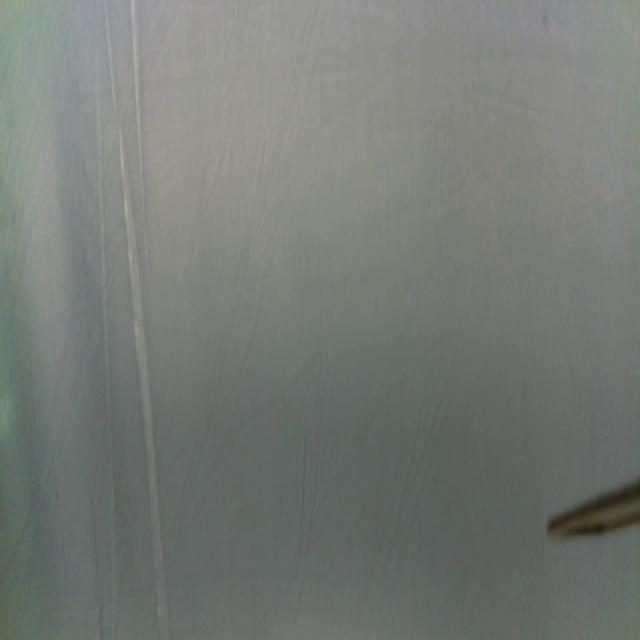crease: (106, 2, 170, 636), (94, 42, 120, 640), (129, 0, 149, 268)
